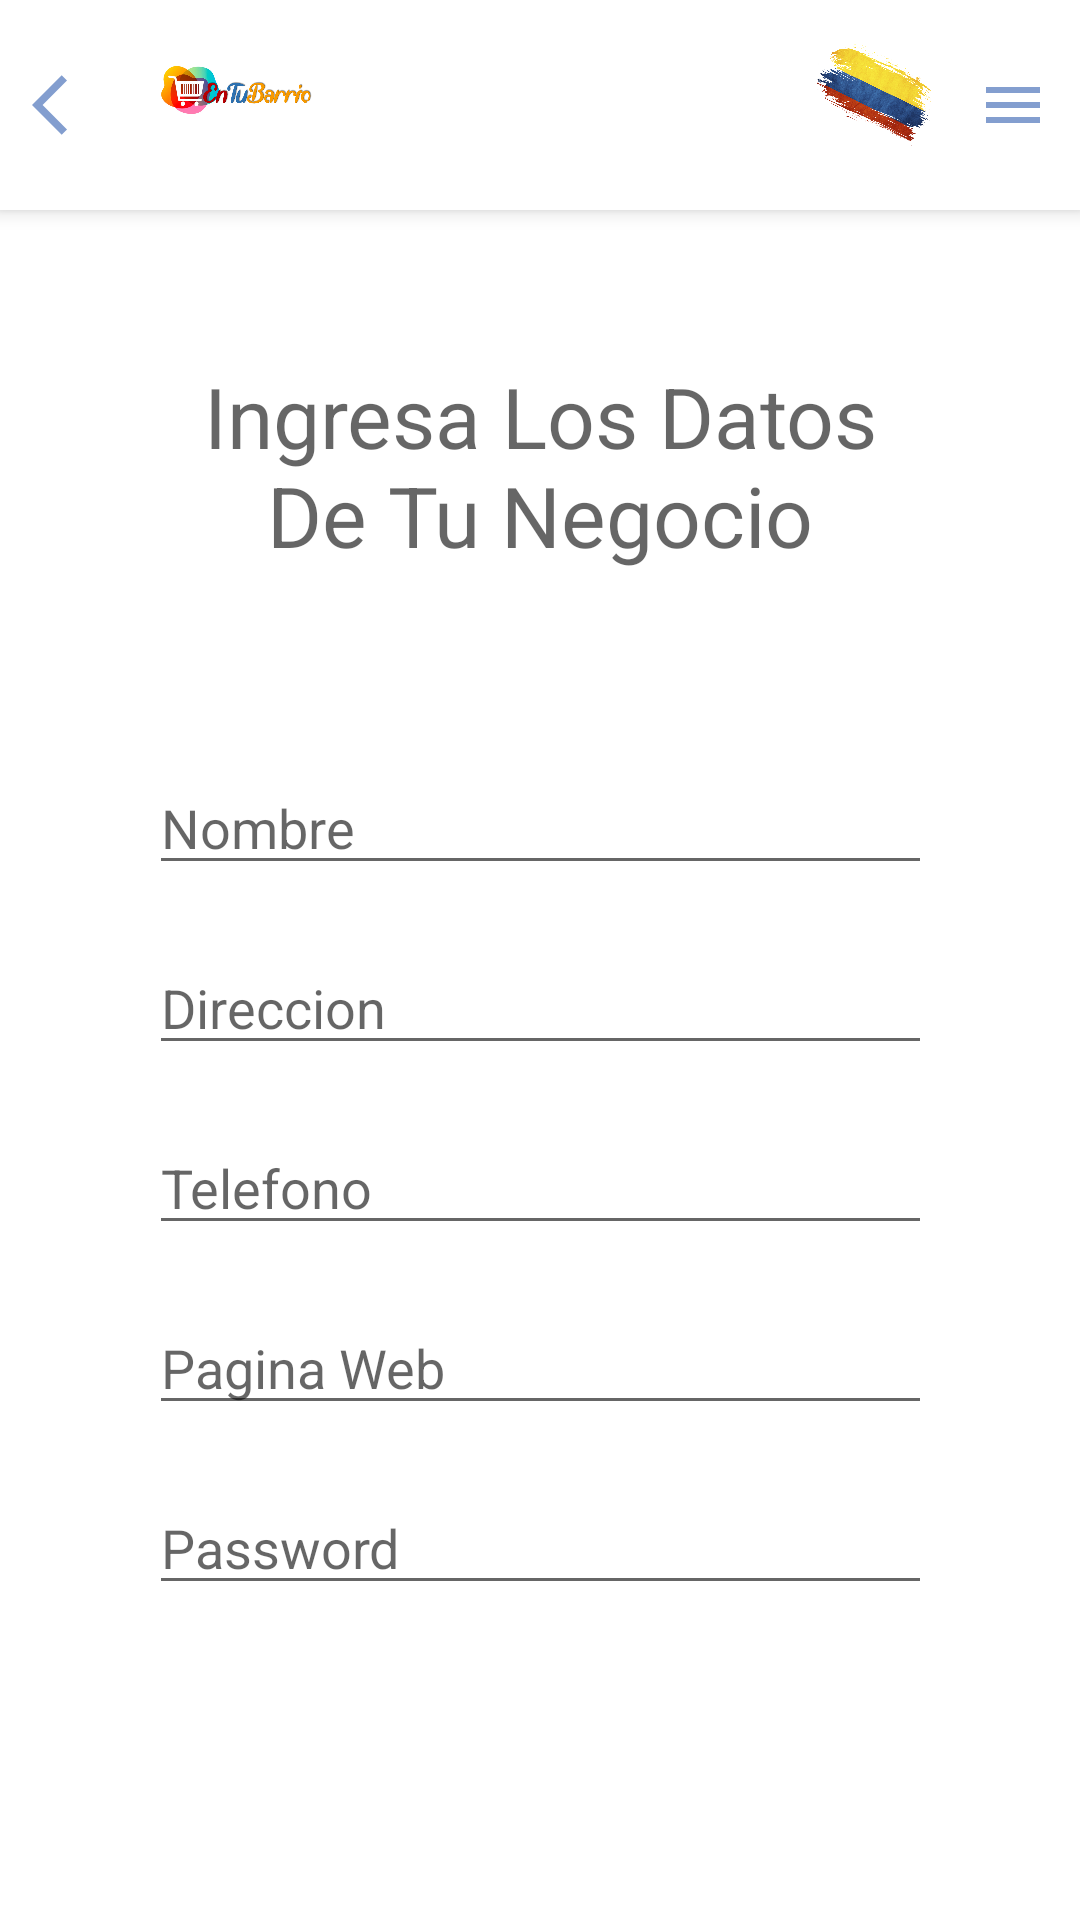

Icons on this 1080 x 1920 Android screen, each with the point to tap as point (x, y):
arrow back: point (49, 105)
menu: point (1013, 105)
